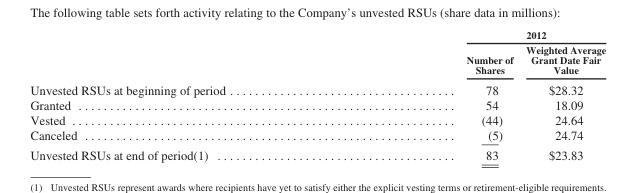table: (29, 28, 605, 162)
table column: (29, 28, 345, 162), (345, 28, 519, 162), (519, 28, 605, 162)
table column header: (29, 28, 605, 78)
table row: (29, 42, 605, 78), (29, 78, 605, 96), (29, 144, 605, 162), (29, 127, 605, 144), (29, 96, 605, 112), (29, 112, 605, 127), (29, 28, 605, 42)
table spanning cell: (345, 28, 605, 42)
